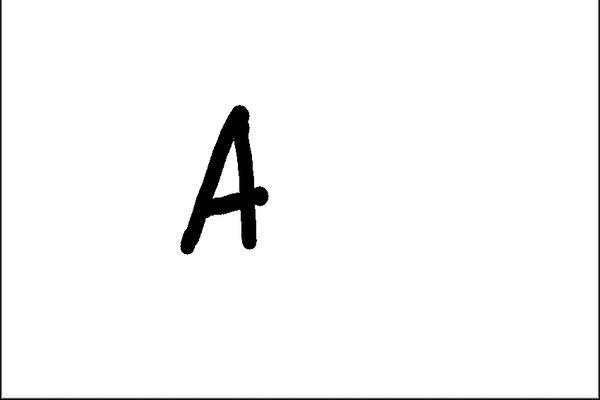A: (155, 94, 278, 261)
